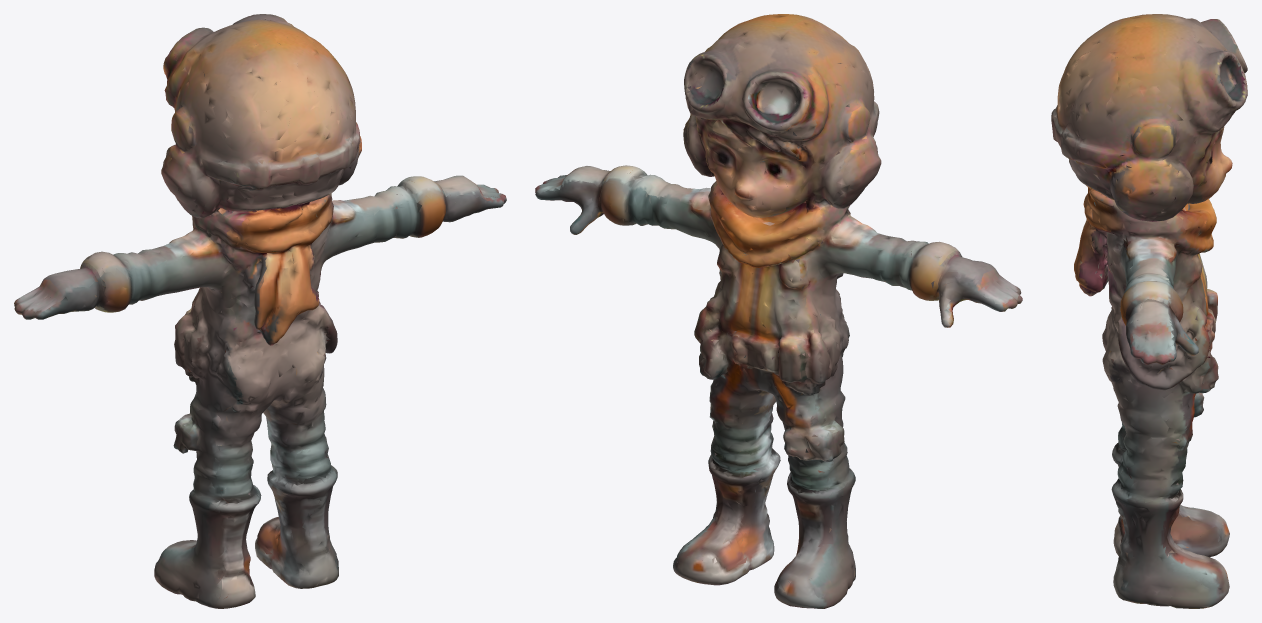
The picture shows the model from 3 angles, left to right: view 1: azimuth 30°, elevation 25°; view 2: azimuth 150°, elevation 25°; view 3: azimuth 270°, elevation 25°; orthographic projection.
Parts seen in each view (by area): view 1: Mesh_0; view 2: Mesh_0; view 3: Mesh_0.
Part boxes in pixels (bbox=[...]): Mesh_0: bbox=[14, 14, 506, 608]; Mesh_0: bbox=[535, 14, 1022, 608]; Mesh_0: bbox=[1051, 14, 1247, 608].
Size of the model in its own units: 1.83 by 2 by 0.6479.
Materials: 1 (1 with a texture image).
